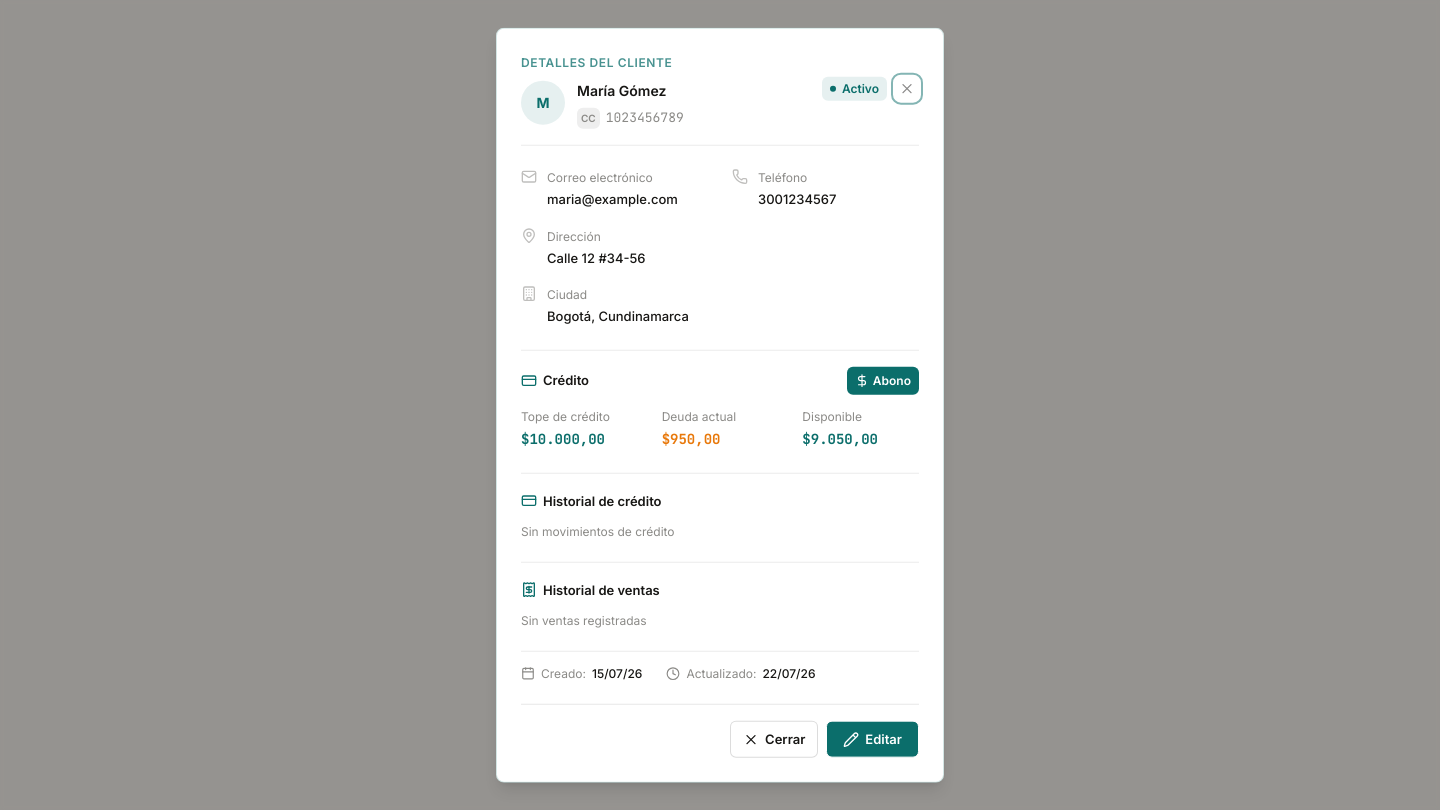
it: ClientDetailDialog › credit payments (abonos) › blocks amounts above the current debt and shows the error
Click the button "Abono": (883, 380) [847,366,919,394]
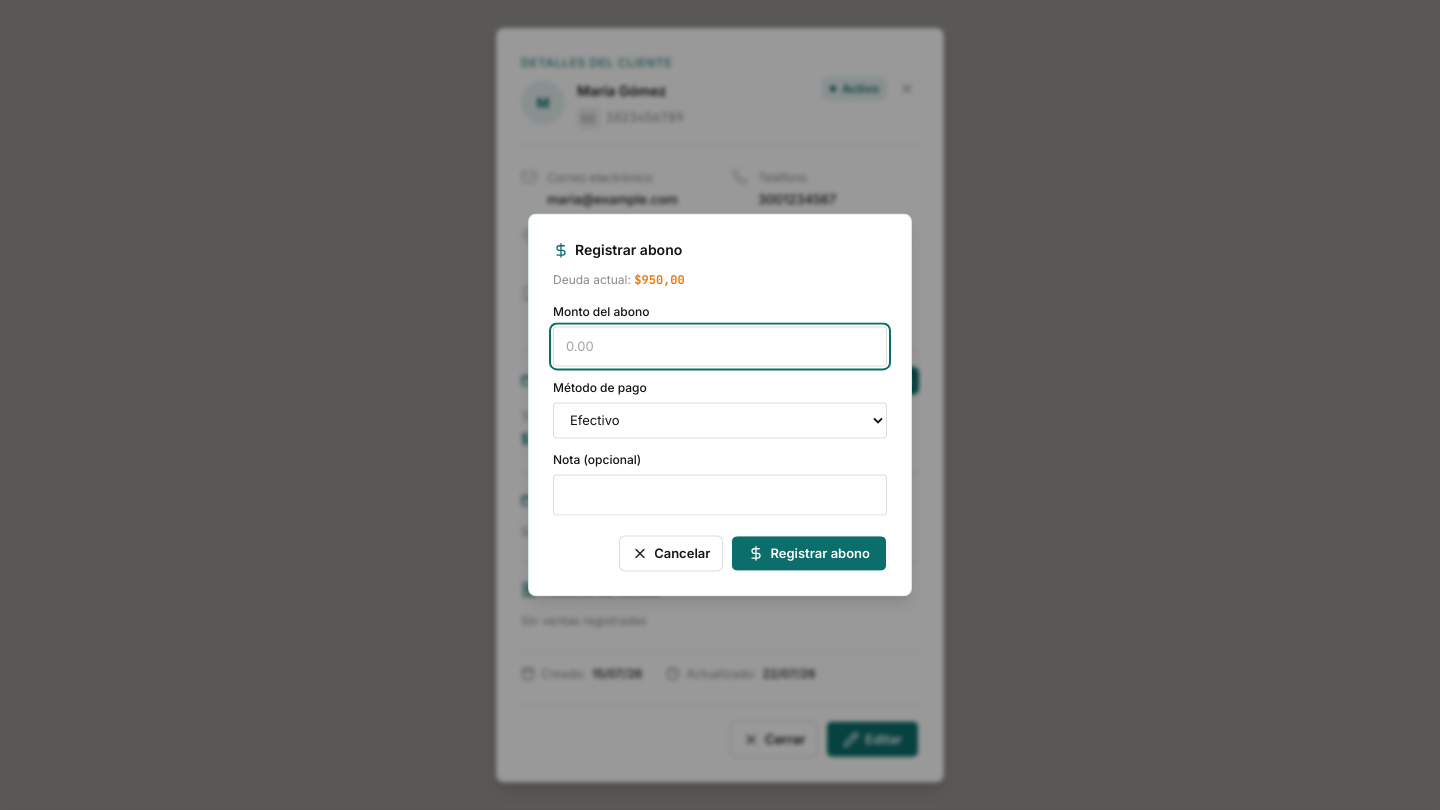
In the number field labelled "Monto del abono": (720, 347) [553,326,887,367], type "2000"
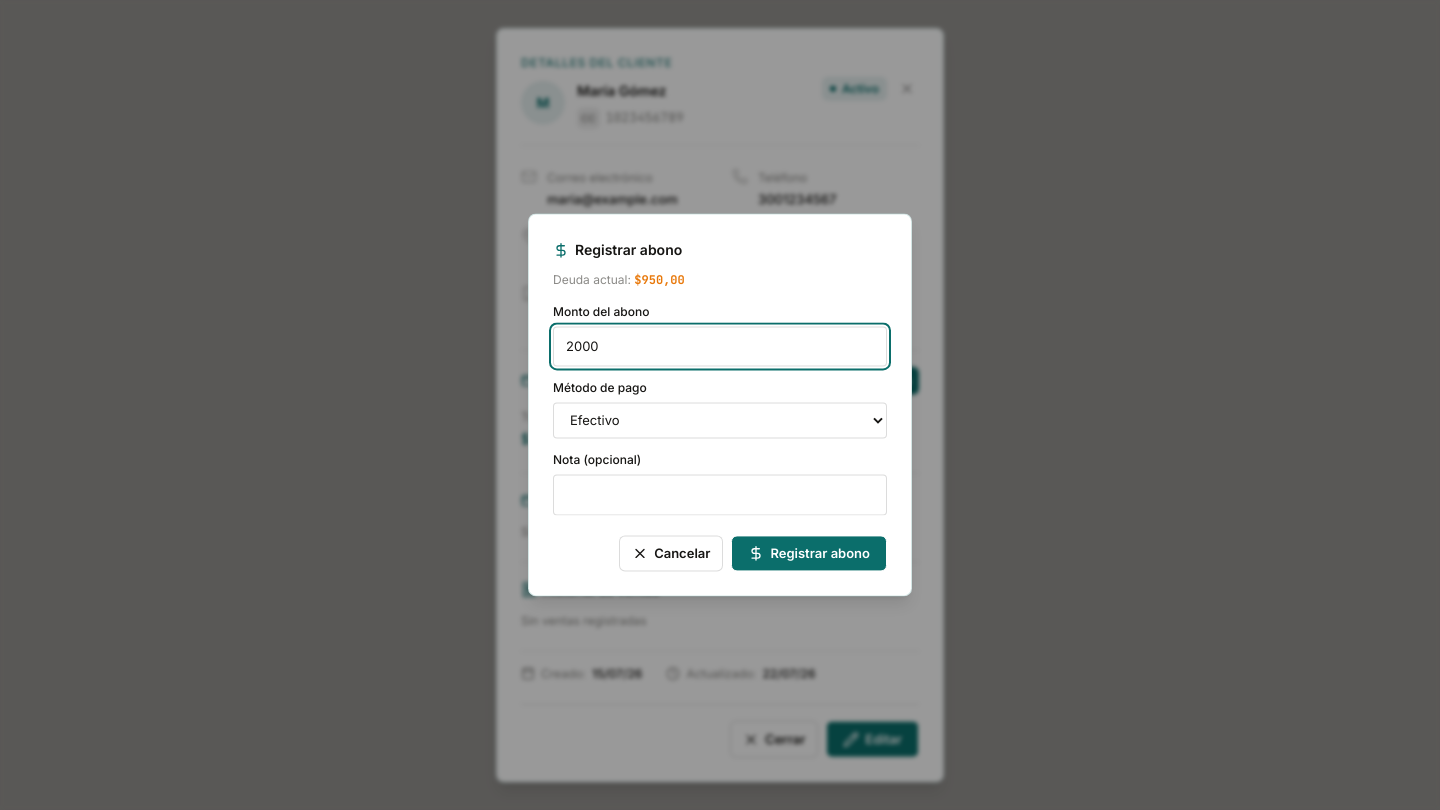
Select "Efectivo" in the dropdown labelled "Método de pago": (720, 421) [553,403,887,439]
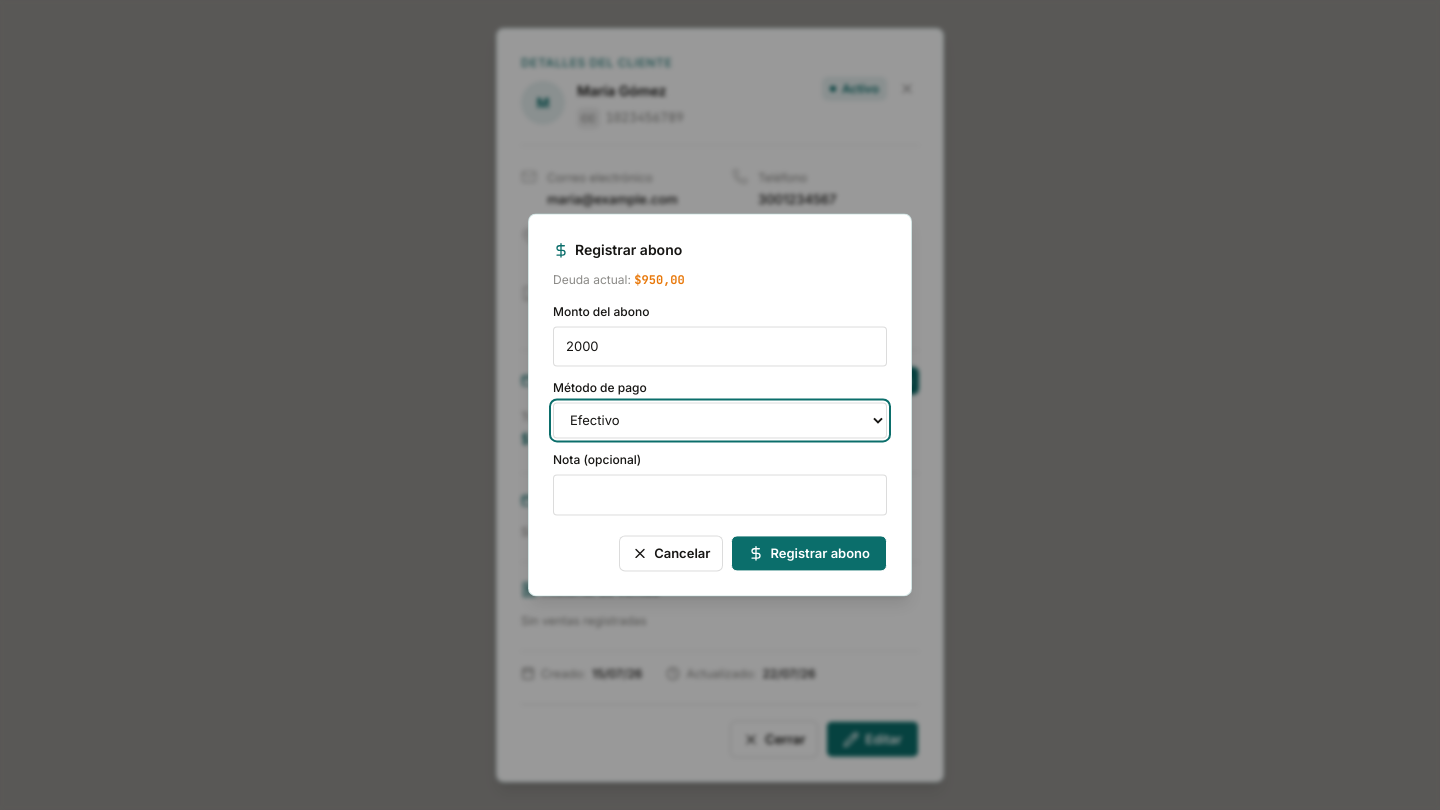
Click the button "Registrar abono": (809, 553) [731,535,887,572]
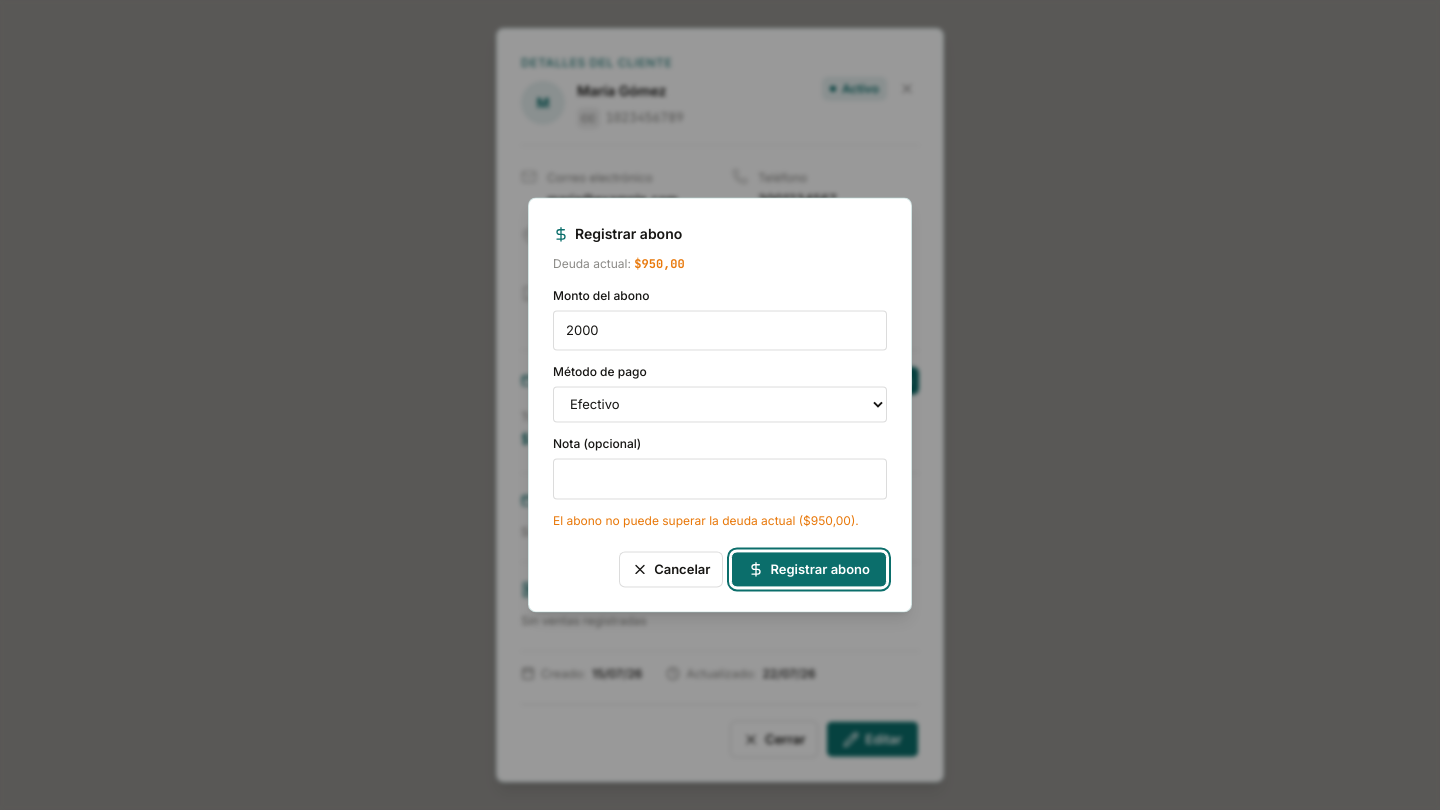
Result: the text "El abono no puede superar la deuda actual ($950,00)." is shown at [553,511,887,531]
